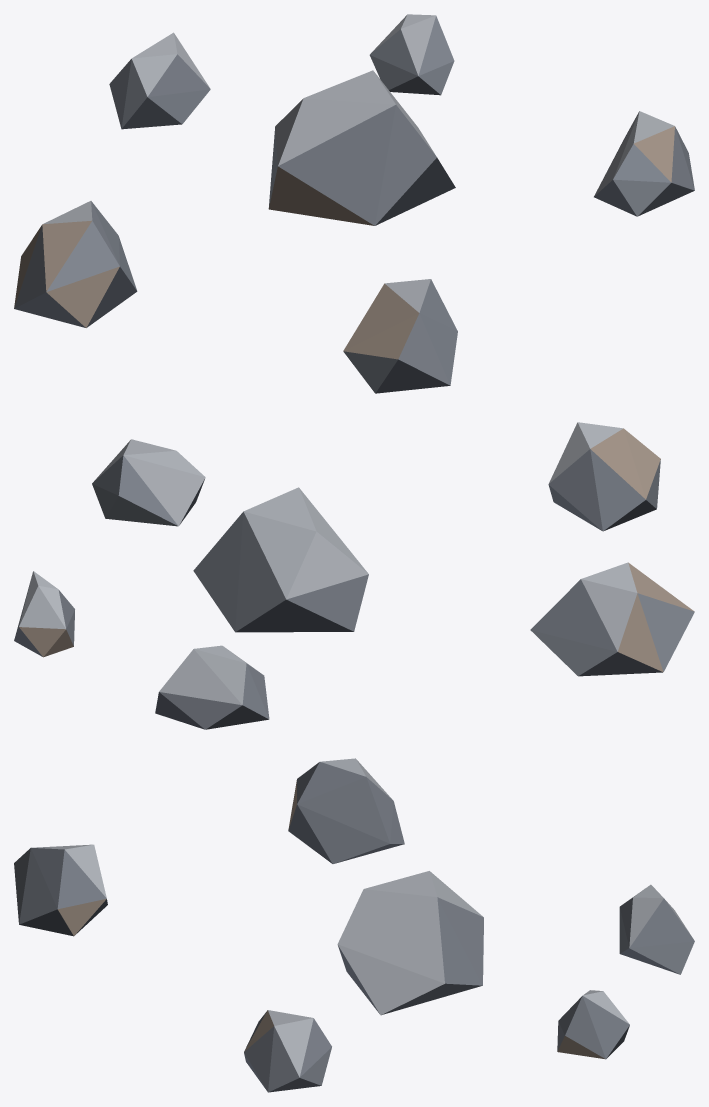
The model's file is pebbles_2.glb.
3 views of the same model, one above another, from view 1: azimuth 30°, elevation 25°; view 2: azimuth 150°, elevation 25°; view 3: azimuth 270°, elevation 25° (orthographic). The views are drawn at different scales.
Parts seen in each view (by area): view 1: Body; view 2: Body; view 3: Body.
Part boxes in pixels (box(x1,y1,x2,y2)): Body: box(14, 14, 694, 393); Body: box(14, 422, 694, 729); Body: box(14, 758, 694, 1092).
Size of the model in its own units: 1.05 by 0.1666 by 1.07.
